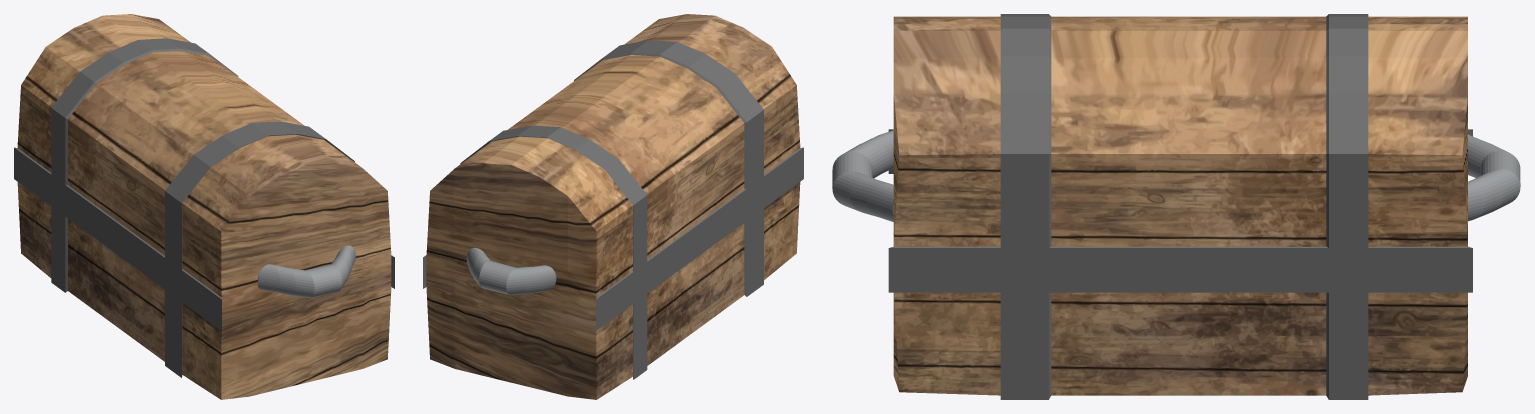
Rendered from caja3.fbx.
3 renders of one model, left to right at view 1: azimuth 30°, elevation 25°; view 2: azimuth 150°, elevation 25°; view 3: azimuth 270°, elevation 25°, orthographic. The views are drawn at different scales.
Visible parts, largest first — view 1: Cube.004; view 2: Cube.004; view 3: Cube.004.
Boxes of the visible parts, left/top/right/bottom form: Cube.004: left=14, top=14, right=394, bottom=399; Cube.004: left=423, top=14, right=803, bottom=399; Cube.004: left=832, top=14, right=1520, bottom=399.
Size of the model in its own units: 204 by 249 by 499.
